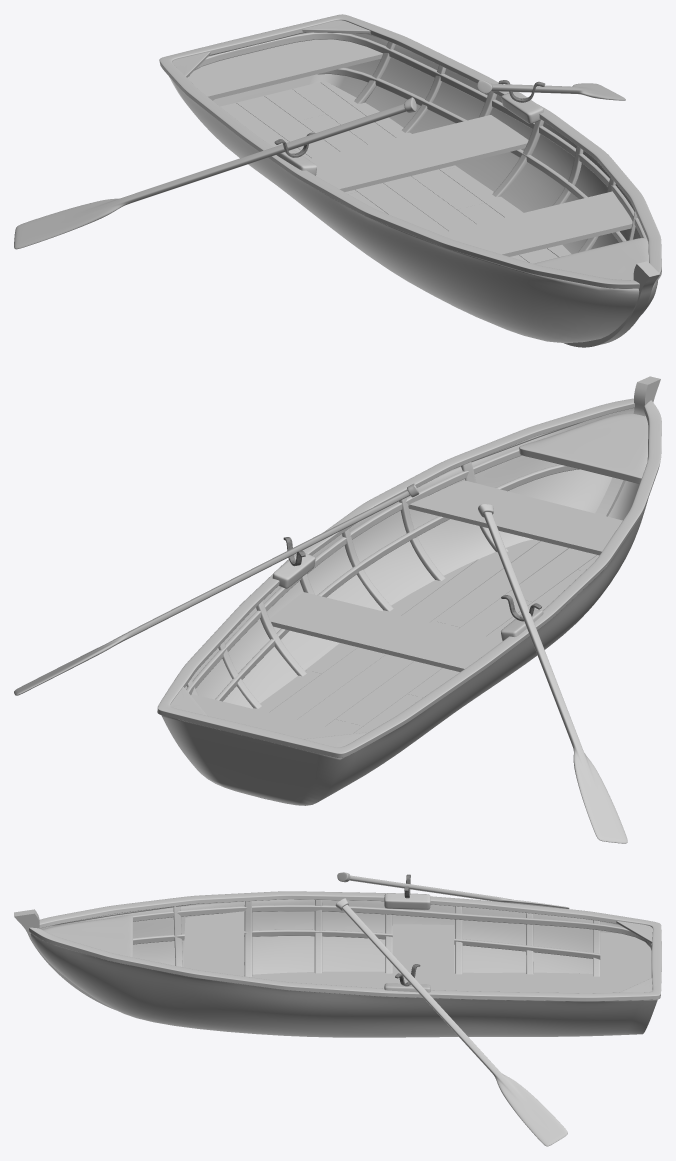
The model's file is Wooden_Rowboat.fbx.
The picture shows the model from 3 angles, top to bottom: view 1: azimuth 30°, elevation 25°; view 2: azimuth 150°, elevation 25°; view 3: azimuth 270°, elevation 25°; orthographic projection. The views are drawn at different scales.
Visible parts, largest first — view 1: Wooden Rowboat, seats, floor, skeleton 2, skeleton 1, paddles, Rowboat parts, skeleton 3; view 2: Wooden Rowboat, floor, seats, skeleton 2, skeleton 1, paddles, Rowboat parts, skeleton 3; view 3: Wooden Rowboat, skeleton 2, seats, skeleton 1, paddles, floor, Rowboat parts, skeleton 3.
Boxes of the visible parts, box(x1,y1,x2,y2) form: Wooden Rowboat: box(169, 32, 657, 343); seats: box(189, 39, 632, 256); floor: box(220, 81, 571, 263); skeleton 2: box(159, 14, 661, 288); skeleton 1: box(187, 32, 647, 252); paddles: box(14, 80, 625, 249); Rowboat parts: box(172, 20, 648, 280); skeleton 3: box(564, 261, 660, 347); Wooden Rowboat: box(161, 408, 647, 805); floor: box(253, 539, 599, 733); seats: box(191, 480, 622, 739); skeleton 2: box(157, 398, 661, 758); skeleton 1: box(186, 448, 579, 708); paddles: box(14, 483, 627, 843); Rowboat parts: box(170, 413, 648, 747); skeleton 3: box(261, 376, 660, 799); Wooden Rowboat: box(30, 899, 657, 1037); skeleton 2: box(29, 891, 661, 1001); seats: box(183, 911, 651, 992); skeleton 1: box(132, 900, 651, 976); paddles: box(335, 872, 569, 1146); floor: box(244, 971, 600, 993); Rowboat parts: box(42, 893, 652, 992); skeleton 3: box(14, 909, 114, 1009).
Bounding box in the file's own units: 204 × 57.48 × 235.
